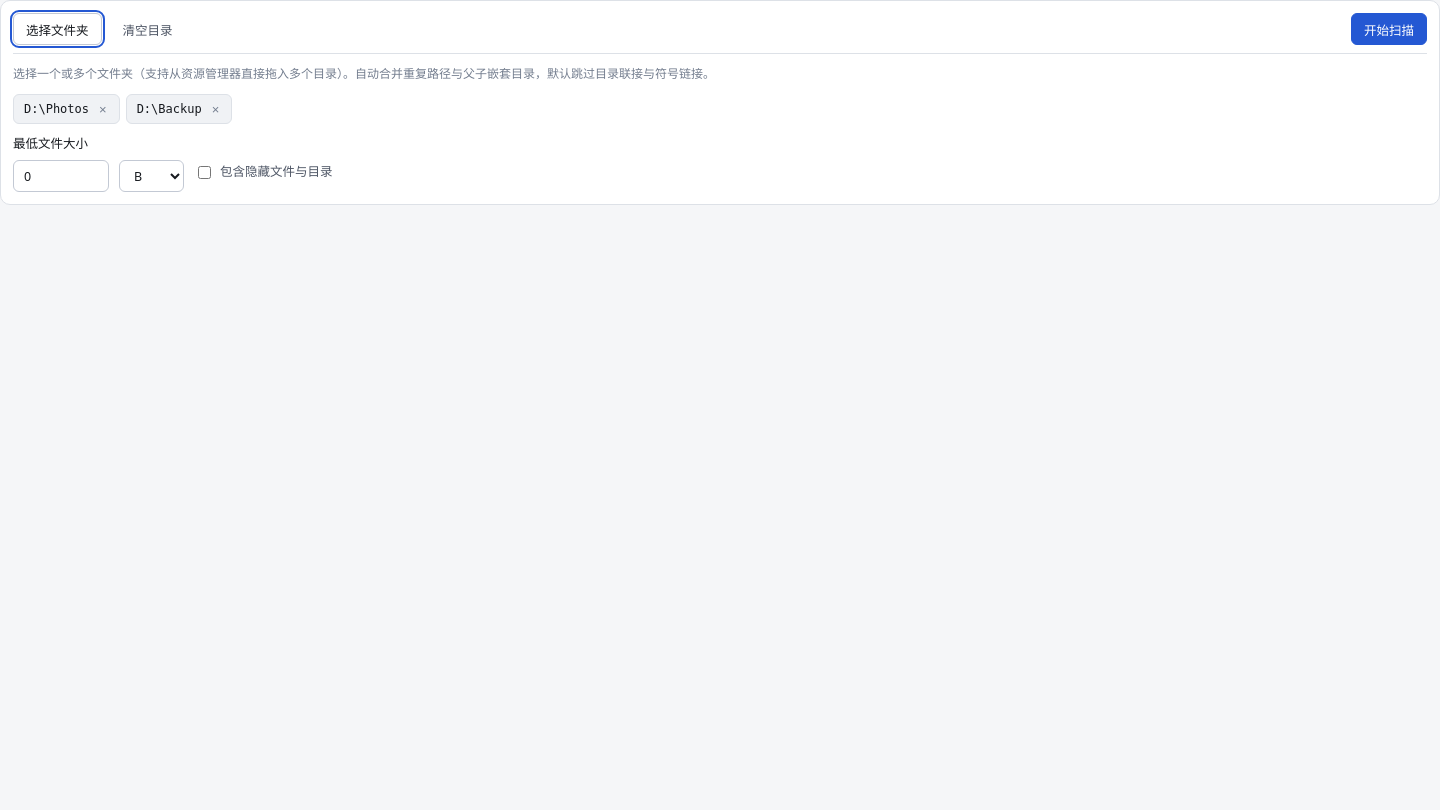
Scenario: F03 FindDuplicatesWorkspace UI › starts with 0 items selected, enforces >= 1 kept copy, confirms count/size, and displays Recycle Bin outcome & space note
Earlier steps of the test are not shown.
Expected: the text "D:\\Photos" is shown, [24,99,89,119]
Click the button "开始扫描".
click(1389, 29)  # box [1351,13,1427,45]
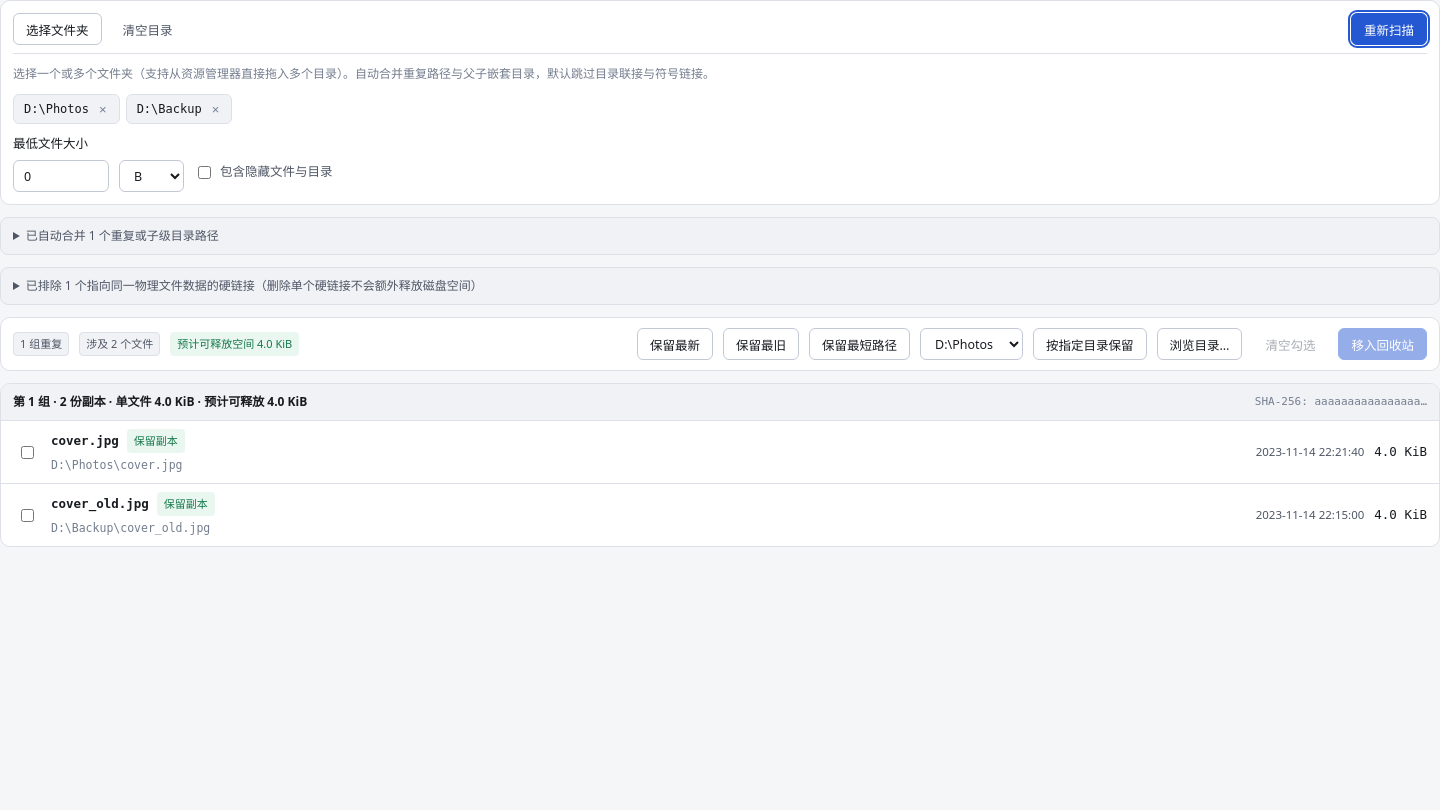
Expected: the text "cover.jpg" is shown, [51,431,119,451]
Expected: the checkbox named "勾选移入回收站 D:\\Photos\\cover.jpg" is not checked, [17,446,38,458]
Expected: the checkbox named "勾选移入回收站 D:\\Backup\\cover_old.jpg" is not checked
Click the checkbox named "勾选移入回收站 D:\\Backup\\cover_old.jpg".
click(28, 515)  # box [17,508,38,522]
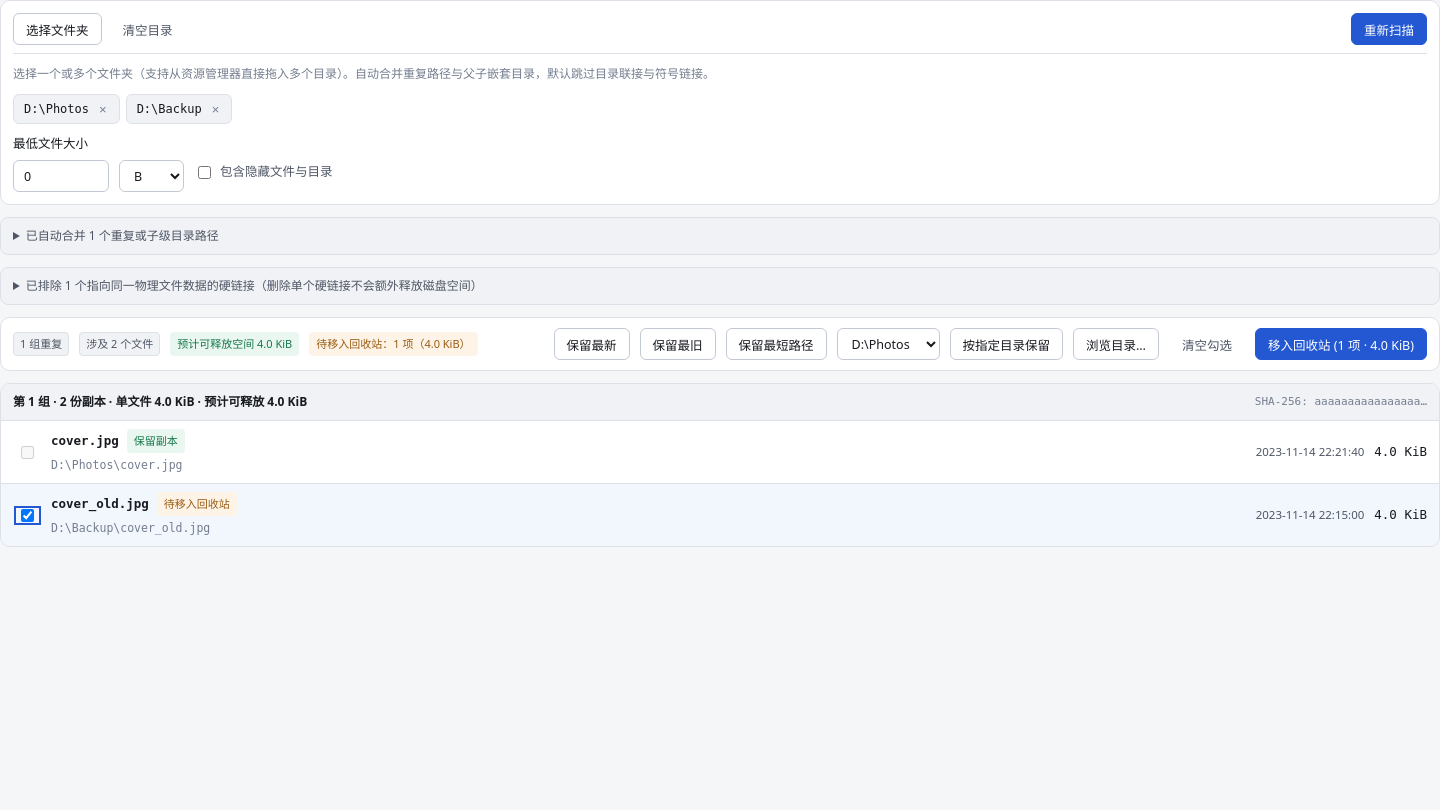
Expected: the checkbox named "勾选移入回收站 D:\\Backup\\cover_old.jpg" is checked, [17,508,38,522]
Expected: the checkbox named "勾选移入回收站 D:\\Photos\\cover.jpg" is disabled, [17,446,38,458]
Click the button "清空勾选".
click(1207, 344)  # box [1169,328,1245,360]
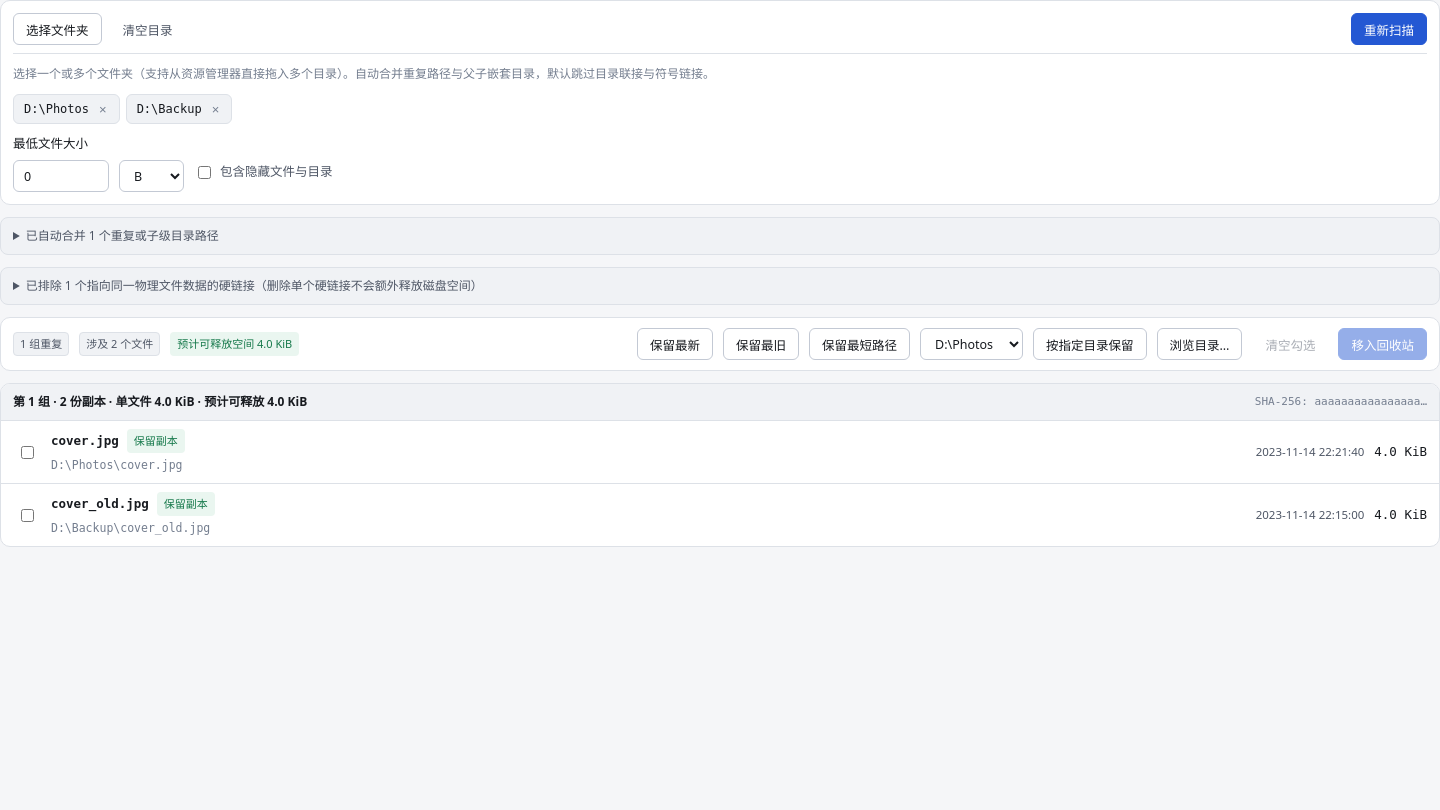
Expected: the checkbox named "勾选移入回收站 D:\\Backup\\cover_old.jpg" is not checked, [17,508,38,522]
Click the button "保留最新".
click(675, 344)  # box [637,328,713,360]
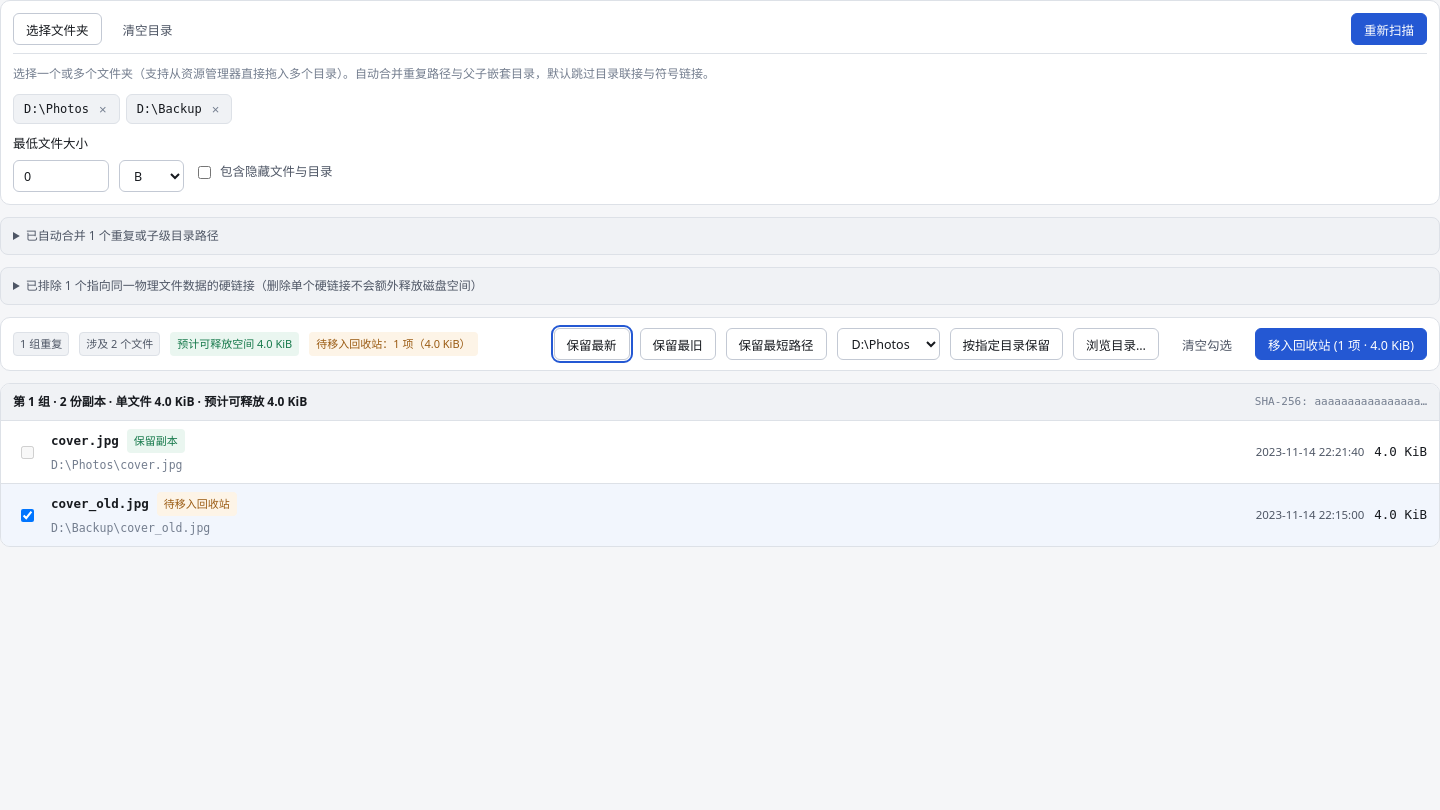
Expected: the checkbox named "勾选移入回收站 D:\\Backup\\cover_old.jpg" is checked, [17,508,38,522]
Expected: the checkbox named "勾选移入回收站 D:\\Photos\\cover.jpg" is not checked, [17,446,38,458]
Click the button "移入回收站 (1 项 · 4.0 KiB)".
click(1341, 344)  # box [1255,328,1427,360]
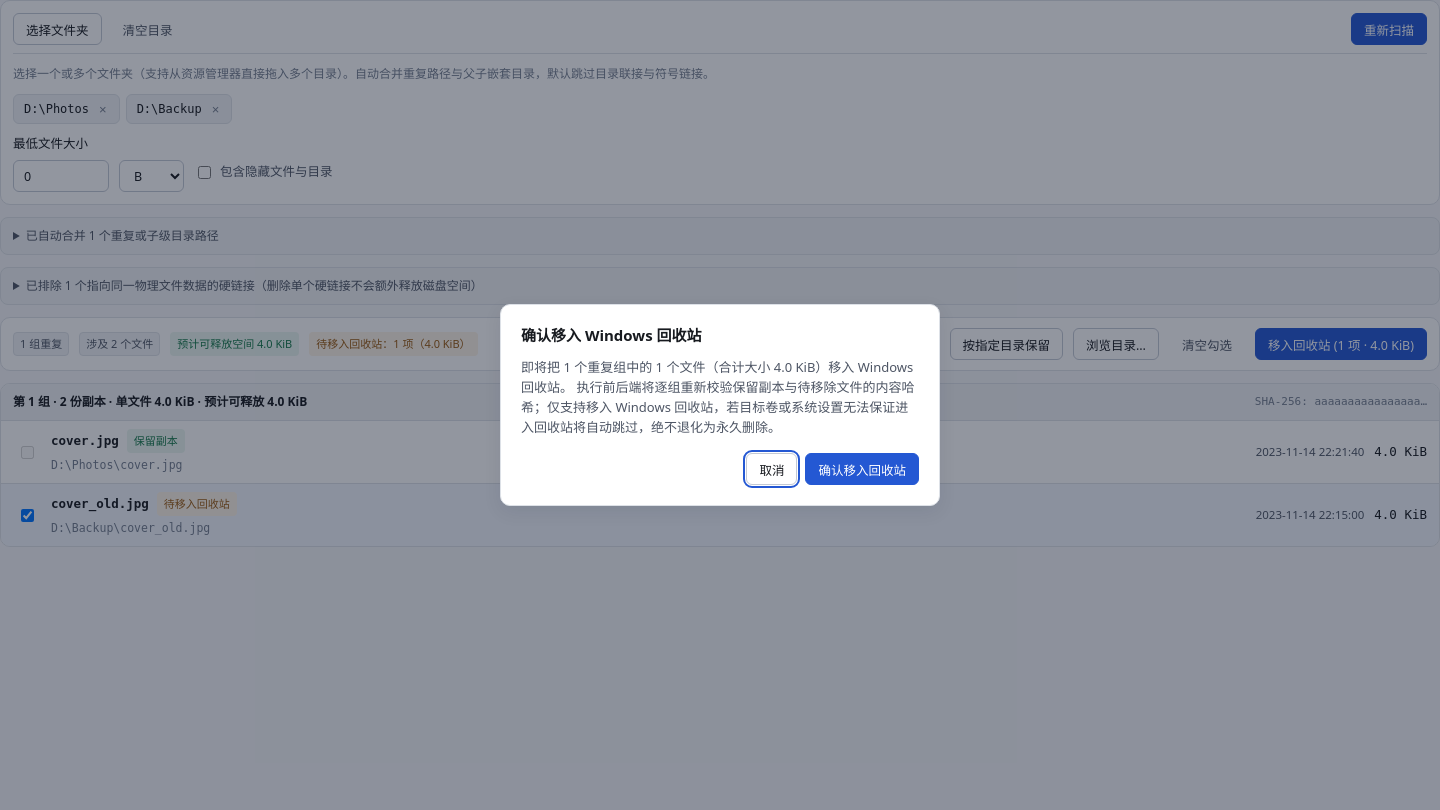
Expected: the dialog shows "1 个文件（合计大小 4.0 KiB）", [521,358,914,436]
Click the button "确认移入回收站".
click(862, 469)  # box [806,453,919,485]
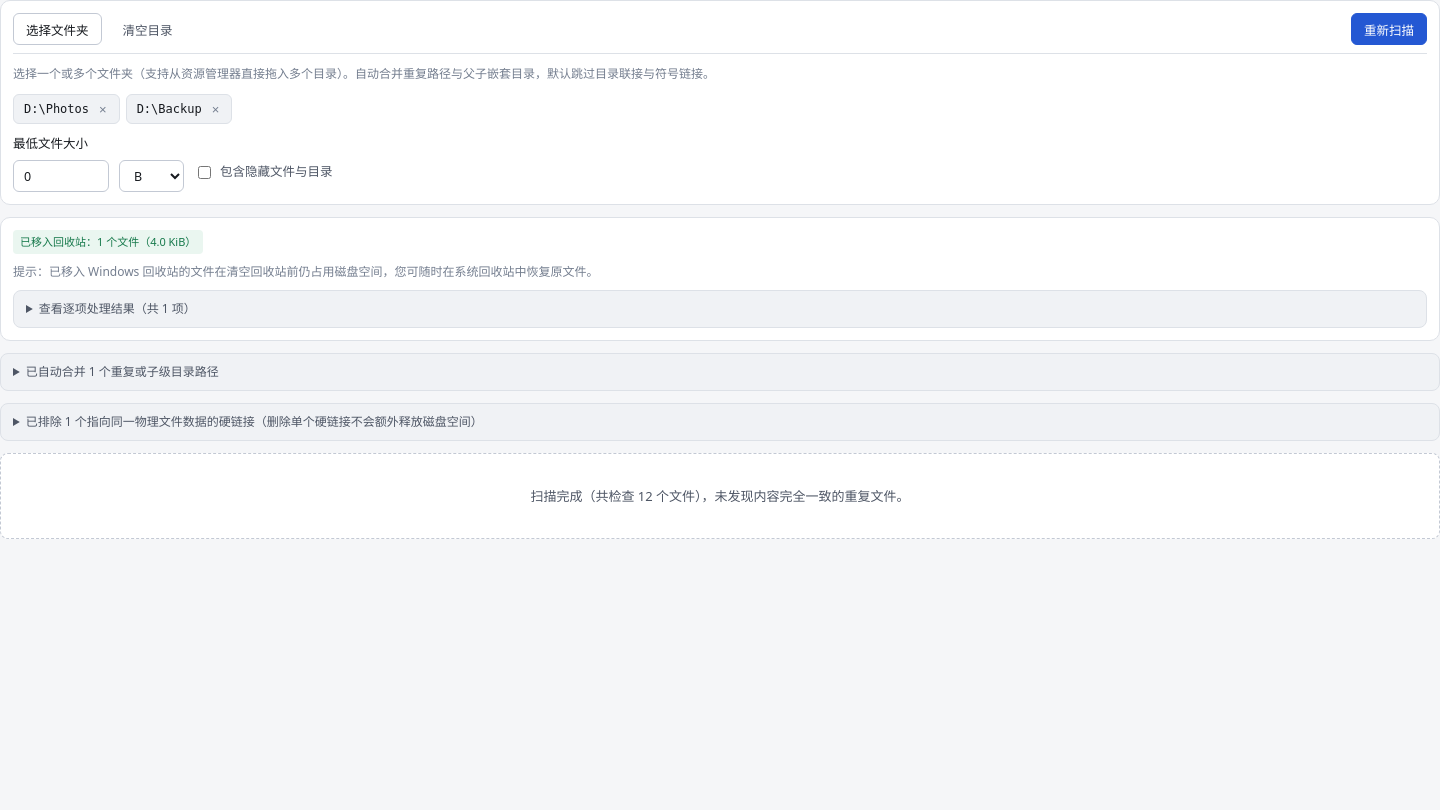
Expected: the text "已移入回收站：1 个文件（4.0 KiB）" is shown, [13,230,203,254]
Expected: the text "提示：已移入 Windows 回收站的文件在清空回收站前仍占用磁盘空间，您可随时在系统回收站中恢复原文件。" is shown, [13,263,598,280]
